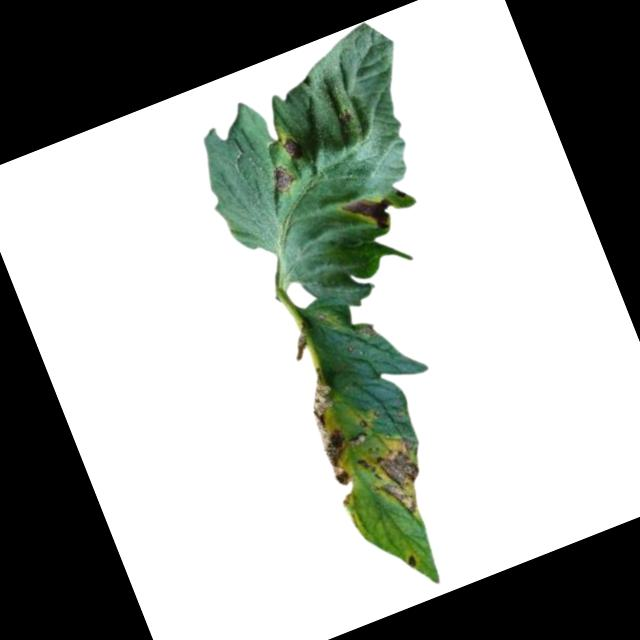Early_blight: (295, 368, 376, 504), (359, 431, 444, 524), (338, 183, 397, 238), (268, 166, 296, 193), (278, 134, 299, 158), (401, 549, 418, 571)
